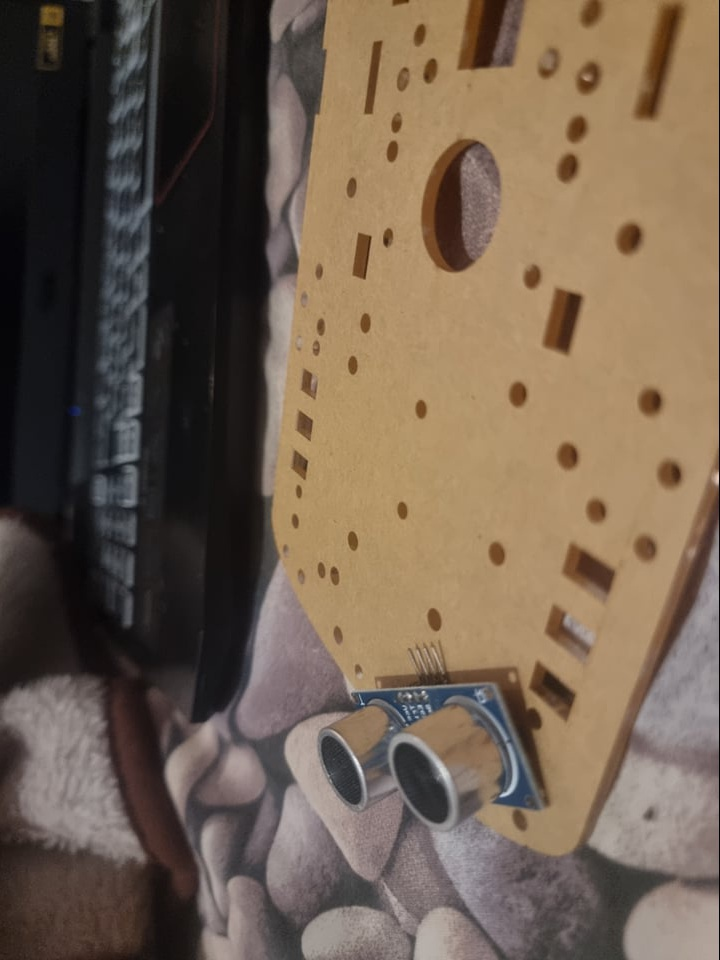SENSOR: (315, 686, 546, 831)
